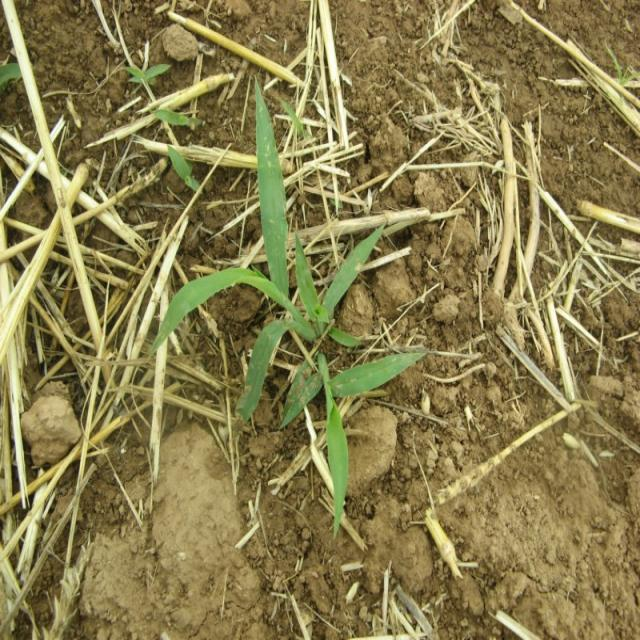bg: (159, 73, 431, 534)
